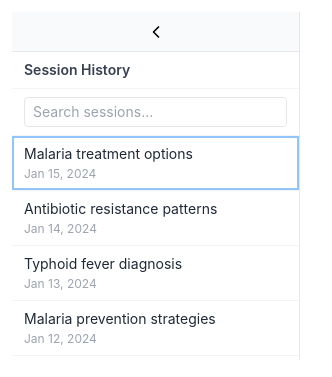
SessionHistoryPanel Search › typing in search input filters displayed entries
Check: the number of options is 4, box [12, 136, 299, 191]; [12, 191, 299, 246]; [12, 246, 299, 301]; [12, 301, 299, 356]
# Type "malaria" to filter
Type "malaria" into the field with test id "session-search-input".
click(156, 112); type("malaria")  # box [24, 97, 287, 127]
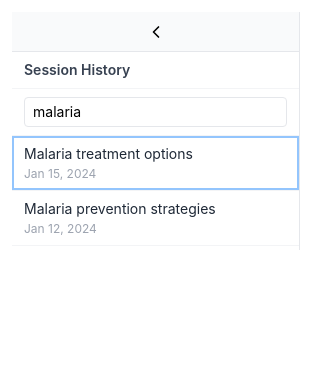
Check: the number of options is 2, box [12, 136, 299, 191]; [12, 191, 299, 246]
